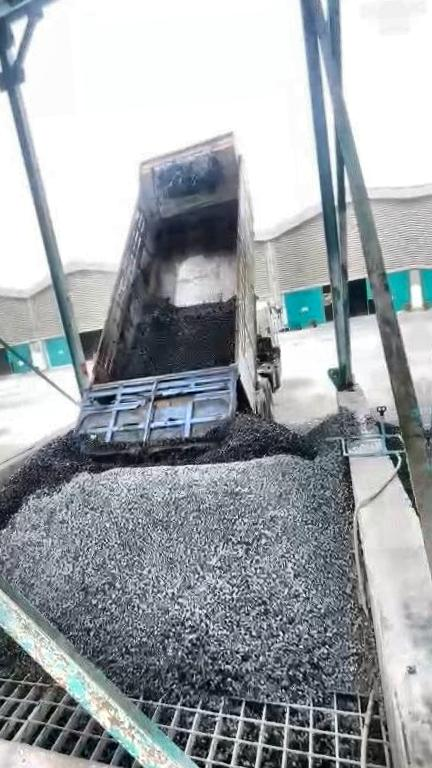gravel: (0, 395, 373, 701), (118, 299, 235, 376), (397, 453, 420, 519), (0, 598, 21, 658)
sand: (0, 440, 7, 488)
